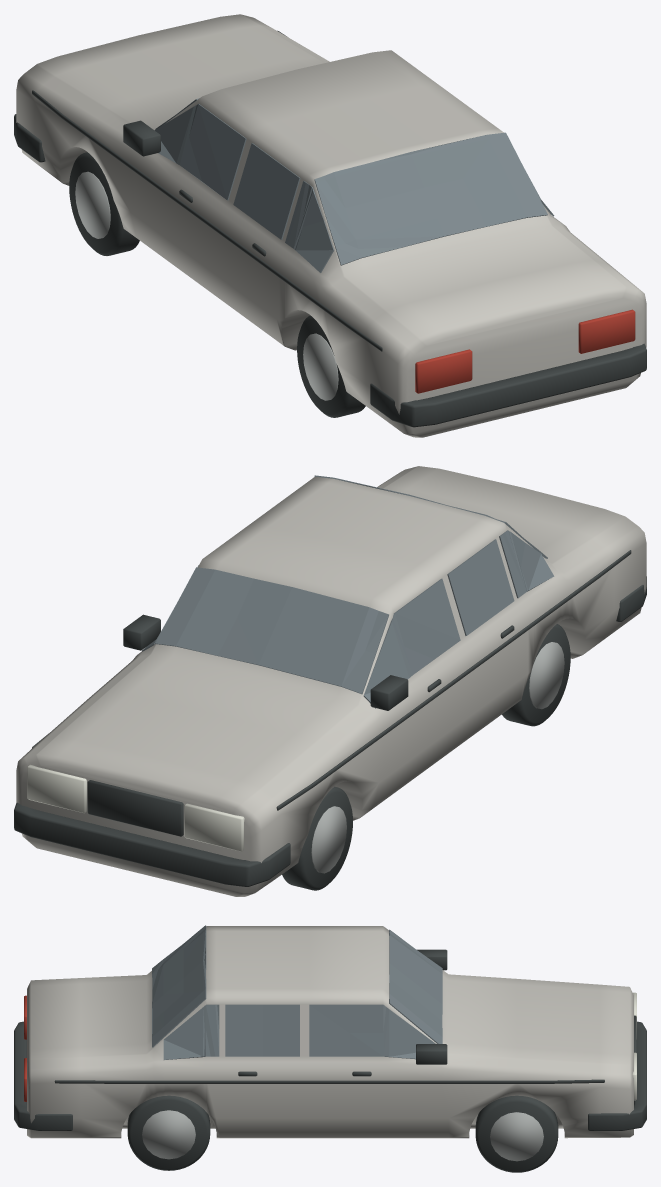
File: volvo240.glb
3 views of the same model, one above another, from view 1: azimuth 30°, elevation 25°; view 2: azimuth 150°, elevation 25°; view 3: azimuth 270°, elevation 25° (orthographic). The views are drawn at different scales.
Visible parts, largest first — view 1: body, glass_envelope, bumper_rear, wheel_fl, trim_side_-1, lamp_rear_-1, lamp_rear_1, wheel_rl, trim_rim_wheel_rl, trim_rim_wheel_fl, mirror_housing, bumper_front; view 2: body, glass_envelope, bumper_front, grille_front, wheel_fl, lamp_front_-1, lamp_front_1, trim_side_-1, wheel_rl, trim_rim_wheel_fl, trim_rim_wheel_rl, mirror_housing (+2 smaller); view 3: body, glass_envelope, wheel_fr, wheel_rr, trim_side_1, trim_rim_wheel_rr, trim_rim_wheel_fr, bumper_front, bumper_rear, mirror_housing.001, mirror_housing.
Part boxes in pixels (left/top/right/bottom): body: left=16, top=14, right=646, bottom=437; glass_envelope: left=154, top=98, right=554, bottom=272; bumper_rear: left=370, top=343, right=646, bottom=427; wheel_fl: left=69, top=152, right=139, bottom=255; trim_side_-1: left=32, top=90, right=382, bottom=351; lamp_rear_-1: left=415, top=349, right=472, bottom=393; lamp_rear_1: left=578, top=309, right=635, bottom=353; wheel_rl: left=297, top=315, right=365, bottom=417; trim_rim_wheel_rl: left=303, top=333, right=338, bottom=400; trim_rim_wheel_fl: left=75, top=171, right=110, bottom=238; mirror_housing: left=123, top=120, right=160, bottom=156; bumper_front: left=14, top=114, right=45, bottom=162; body: left=16, top=466, right=646, bottom=896; glass_envelope: left=142, top=475, right=554, bottom=708; bumper_front: left=14, top=802, right=290, bottom=886; grille_front: left=87, top=780, right=183, bottom=836; wheel_fl: left=282, top=786, right=352, bottom=890; lamp_front_-1: left=184, top=803, right=244, bottom=851; lamp_front_1: left=27, top=764, right=86, bottom=813; trim_side_-1: left=276, top=550, right=631, bottom=810; wheel_rl: left=502, top=624, right=570, bottom=726; trim_rim_wheel_fl: left=311, top=806, right=346, bottom=873; trim_rim_wheel_rl: left=529, top=642, right=564, bottom=709; mirror_housing: left=370, top=675, right=408, bottom=710; body: left=27, top=926, right=633, bottom=1138; glass_envelope: left=152, top=925, right=442, bottom=1059; wheel_fr: left=475, top=1095, right=558, bottom=1172; wheel_rr: left=127, top=1095, right=210, bottom=1170; trim_side_1: left=54, top=1079, right=604, bottom=1083; trim_rim_wheel_rr: left=142, top=1110, right=195, bottom=1159; trim_rim_wheel_fr: left=490, top=1112, right=543, bottom=1161; bumper_front: left=588, top=1021, right=646, bottom=1130; bumper_rear: left=14, top=1021, right=72, bottom=1130; mirror_housing.001: left=416, top=1044, right=447, bottom=1064; mirror_housing: left=417, top=949, right=447, bottom=970.
Size of the model in its own units: 1.83 by 1.43 by 4.82.
